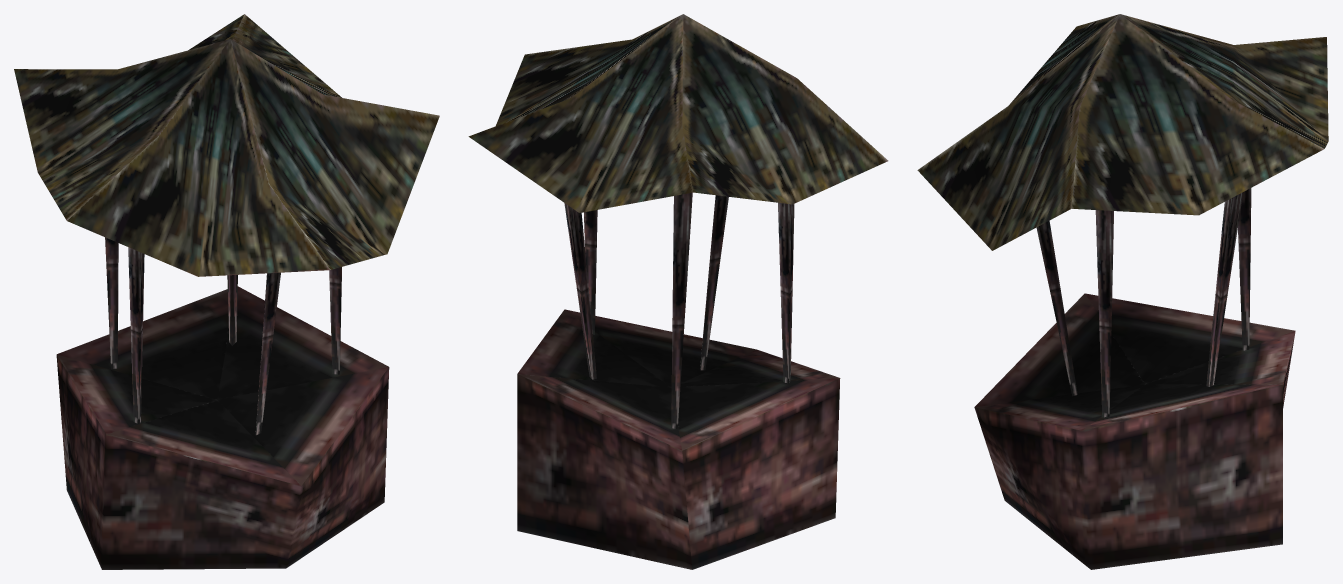
Rendered from USA - Prop - Garden Well - Damaged - PAChWell_d.glb.
3 views of the same model, side by side, from view 1: azimuth 30°, elevation 25°; view 2: azimuth 150°, elevation 25°; view 3: azimuth 270°, elevation 25° (orthographic).
Parts seen in each view (by area): view 1: PACHWELL_D; view 2: PACHWELL_D; view 3: PACHWELL_D.
Part boxes in pixels (x1=…): PACHWELL_D: x1=14, y1=14, x2=439, y2=569; PACHWELL_D: x1=468, y1=14, x2=888, y2=569; PACHWELL_D: x1=917, y1=14, x2=1328, y2=569.
Bounding box in the file's own units: 13.02 × 16.5 × 12.46.
Materials: 1 (1 with a texture image).
